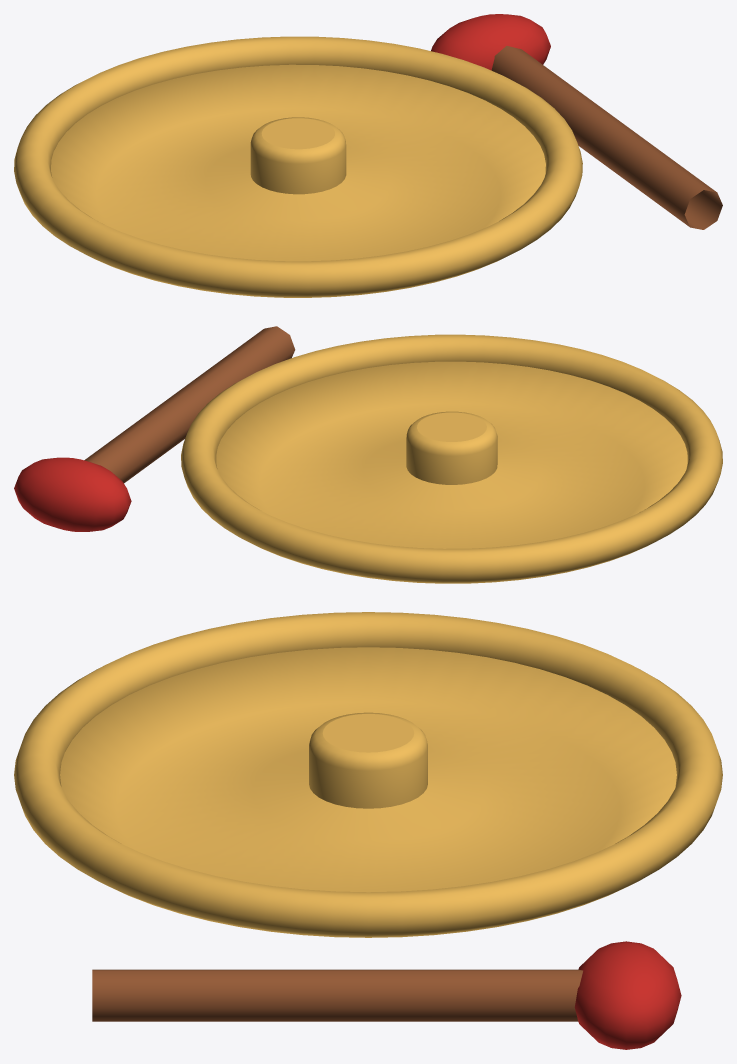
Rendered from prop-small-gong.glb.
The picture shows the model from 3 angles, top to bottom: view 1: azimuth 30°, elevation 25°; view 2: azimuth 150°, elevation 25°; view 3: azimuth 270°, elevation 25°; orthographic projection. The views are drawn at different scales.
Parts seen in each view (by area): view 1: prop-small-gong; view 2: prop-small-gong; view 3: prop-small-gong.
Part boxes in pixels (box(x1,y1,x2,y2)): prop-small-gong: box(14, 14, 722, 297); prop-small-gong: box(14, 326, 722, 583); prop-small-gong: box(14, 612, 722, 1049).
Bounding box in the file's own units: 0.935 × 0.15 × 0.77.
